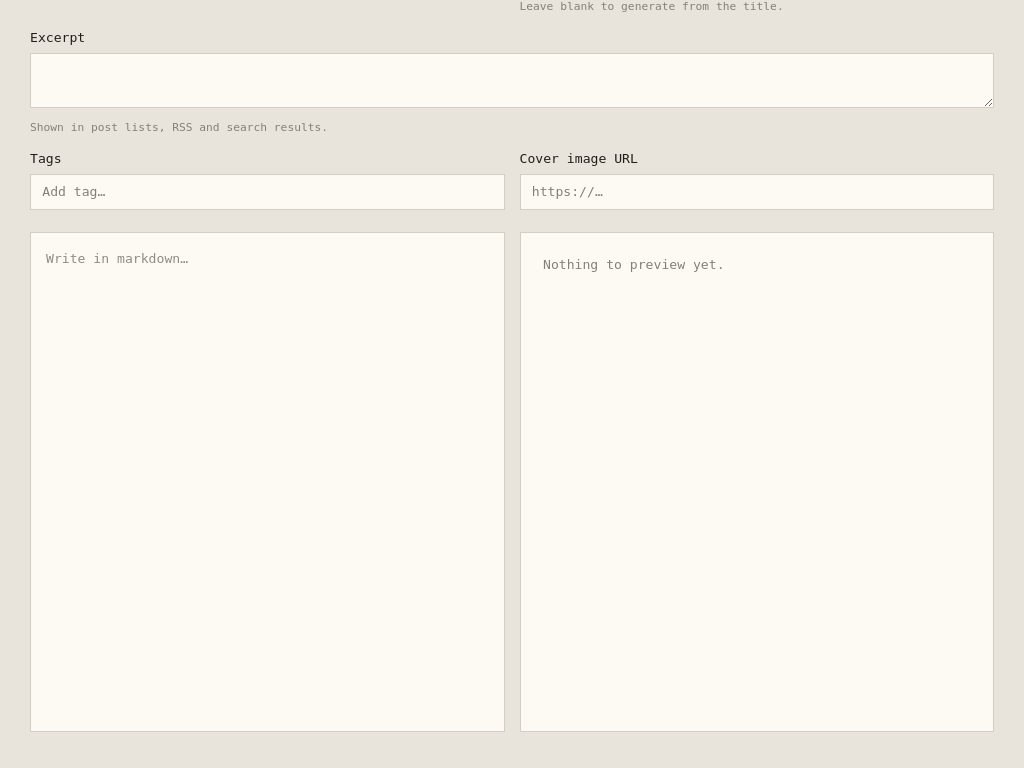
Scenario: admin › live-previews markdown in the post editor
This screenshot has width=1024, height=768.
(page scrolled)
Type "## Hello preview" into the text box named "Content (markdown)" at (267, 482), box [30,232,504,732]
(page scrolled)
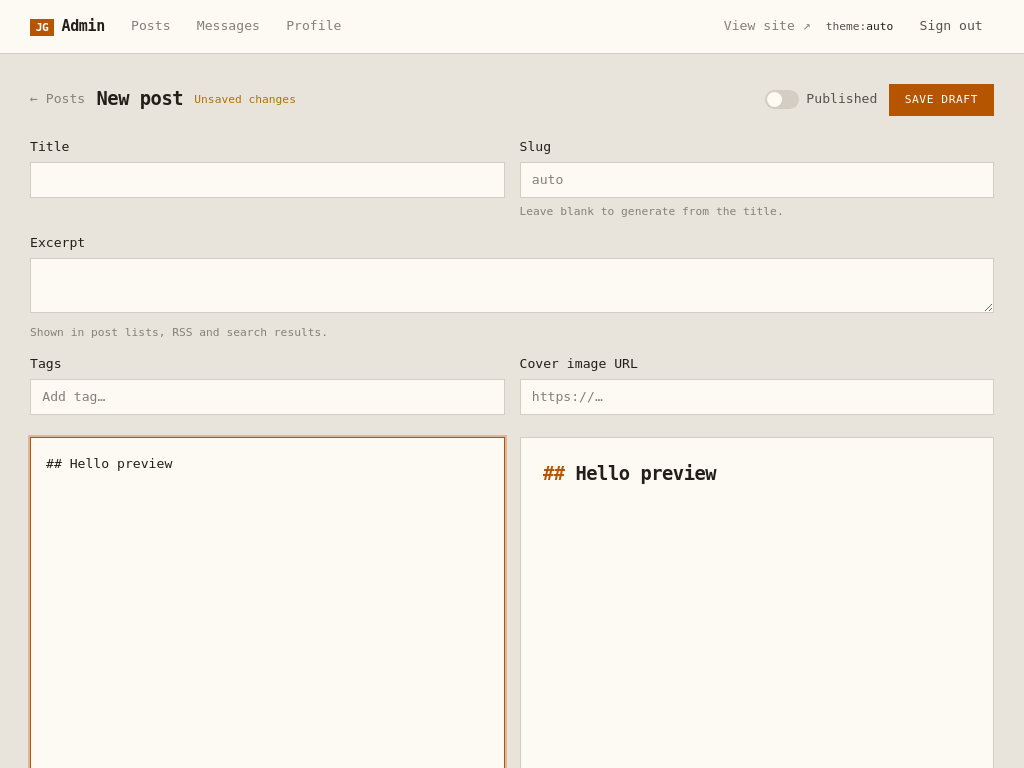
Expected: the heading "Hello preview" is shown, [576,463,716,484]
Expected: the text "Unsaved changes" is shown, [194,92,296,107]
